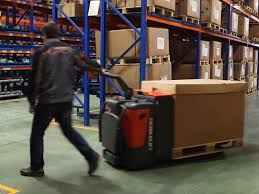Pallet Jack: (98, 69, 246, 172)
